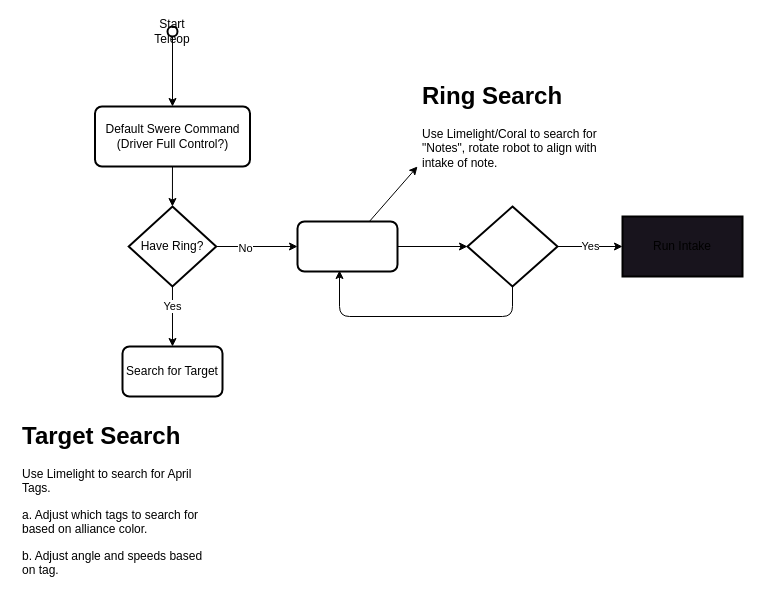
Some shapes in this 760 by 604 pixel diagram are drawn without their labels. The box of each missing label's shape, as (x1, y1, x2, y2) in pixels:
Close to Ring?: (466, 205, 558, 287)
Search for Ring: (296, 220, 398, 272)
